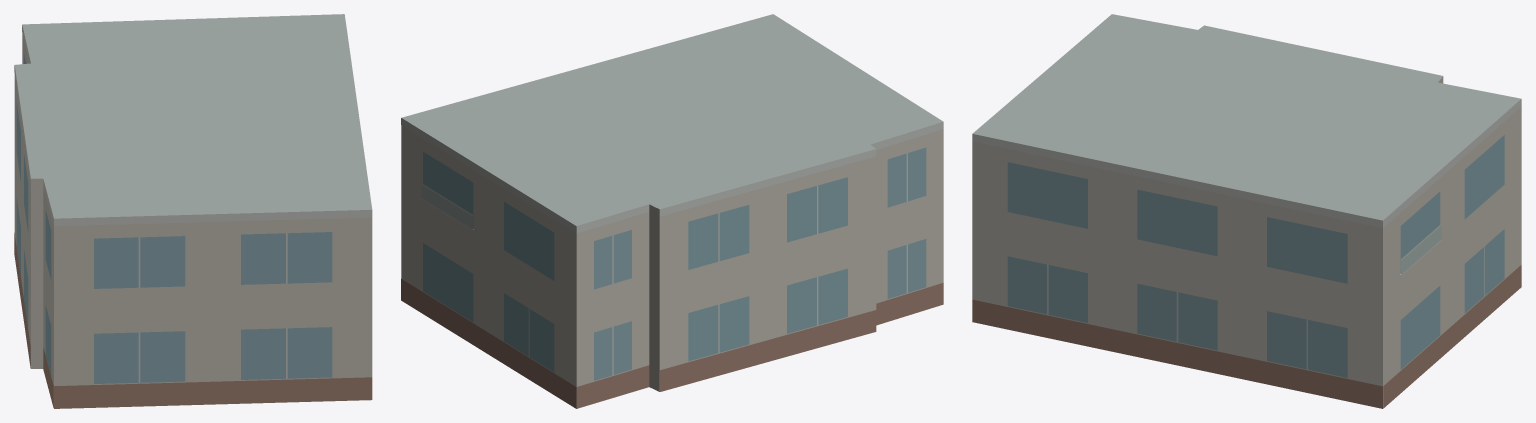
File: survey-upis-32889174.glb
The picture shows the model from 3 angles, left to right: view 1: azimuth 30°, elevation 25°; view 2: azimuth 150°, elevation 25°; view 3: azimuth 270°, elevation 25°; orthographic projection. The views are drawn at different scales.
Parts seen in each view (by area): view 1: survey-upis-32889174.tmp; view 2: survey-upis-32889174.tmp; view 3: survey-upis-32889174.tmp.
Part boxes in pixels (left/top/right/bottom): survey-upis-32889174.tmp: left=14, top=14, right=372, bottom=408; survey-upis-32889174.tmp: left=401, top=14, right=943, bottom=408; survey-upis-32889174.tmp: left=972, top=14, right=1521, bottom=408.
Size of the model in its own units: 14.36 by 6.1 by 16.14.
